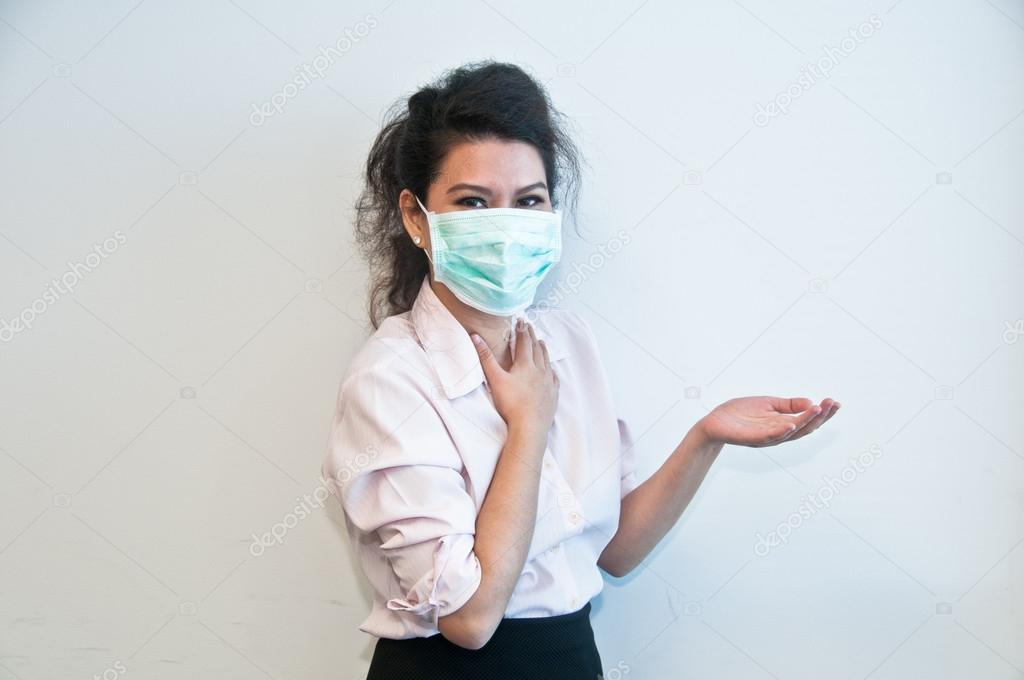mask: (429, 205, 561, 315)
